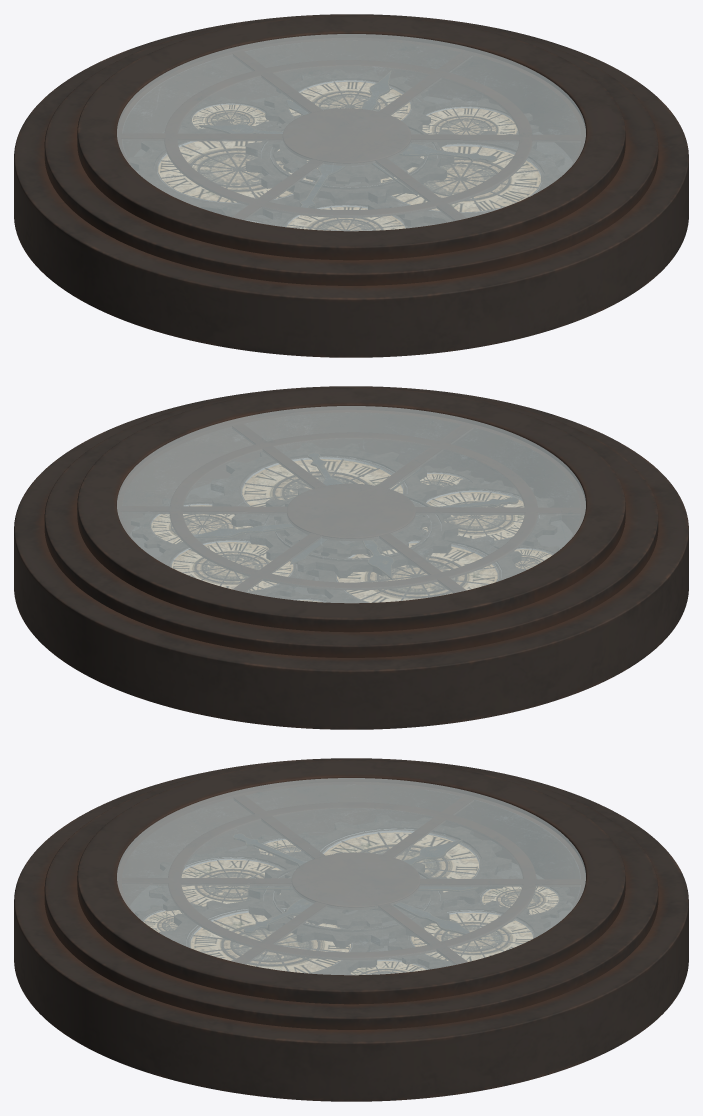
Rendered from stage.glb.
3 views of the same model, one above another, from view 1: azimuth 30°, elevation 25°; view 2: azimuth 150°, elevation 25°; view 3: azimuth 270°, elevation 25° (orthographic).
Visible parts, largest first — view 1: Stage_Stand, Stage_Glass_Clack, Gear_01, Gear_04, Gear_05, Gear_02, Gear_06, Handle, Gear_08, Gear_07, Gear_03; view 2: Stage_Stand, Stage_Glass_Clack, Gear_01, Gear_04, Gear_05, Gear_08, Gear_02, Gear_06, Handle, Gear_03, Gear_10, Gear_09; view 3: Stage_Stand, Stage_Glass_Clack, Gear_04, Gear_01, Gear_05, Gear_08, Gear_02, Handle, Gear_07, Gear_03, Gear_06, Gear_10 (+1 smaller).
Boxes of the visible parts, x1,y1,x2,y2 form: Stage_Stand: (14, 14, 688, 357); Stage_Glass_Clack: (117, 34, 585, 231); Gear_01: (352, 130, 564, 226); Gear_04: (127, 120, 351, 219); Gear_05: (264, 69, 435, 127); Gear_02: (246, 115, 453, 204); Gear_06: (422, 98, 538, 134); Handle: (199, 70, 496, 207); Gear_08: (262, 199, 421, 230); Gear_07: (181, 97, 279, 129); Gear_03: (273, 132, 428, 184); Stage_Stand: (14, 386, 688, 729); Stage_Glass_Clack: (117, 406, 585, 603); Gear_01: (211, 442, 436, 536); Gear_04: (307, 529, 525, 602); Gear_05: (154, 533, 314, 596); Gear_08: (422, 479, 561, 548); Gear_02: (250, 482, 457, 577); Gear_06: (131, 494, 252, 548); Handle: (193, 453, 518, 579); Gear_03: (274, 498, 429, 556); Gear_10: (420, 466, 483, 486); Gear_09: (515, 542, 558, 569); Stage_Stand: (14, 758, 688, 1101); Stage_Glass_Clack: (117, 778, 585, 975); Gear_04: (286, 815, 511, 911); Gear_01: (159, 895, 383, 974); Gear_05: (388, 900, 550, 969); Gear_08: (148, 847, 297, 912); Gear_02: (248, 852, 456, 947); Handle: (215, 834, 481, 940); Gear_07: (478, 875, 574, 918); Gear_03: (274, 871, 429, 927); Gear_06: (351, 950, 428, 974); Gear_10: (135, 905, 182, 932).
Bounding box in the file's own units: 12.34 × 1.69 × 12.34.
4 materials, 4 textured.
